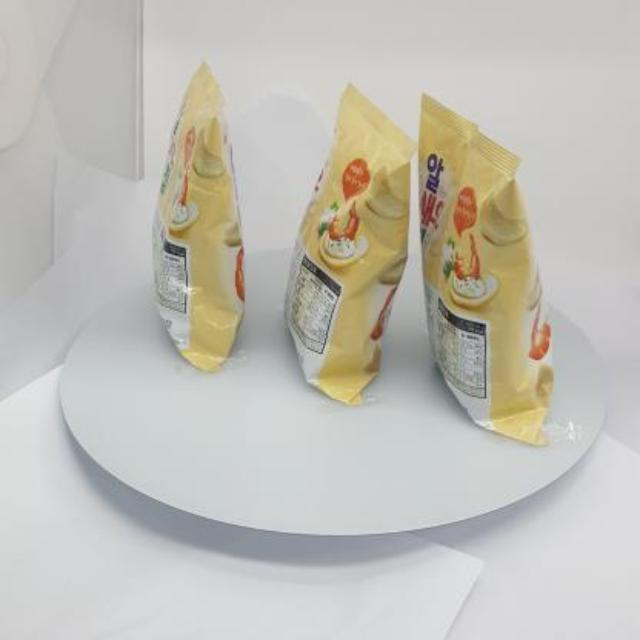snack_bag: (136, 41, 600, 467)
